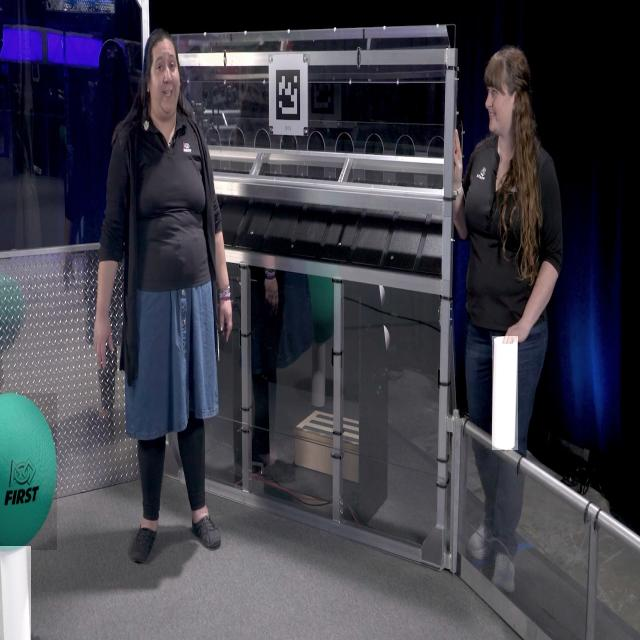Algae: (0, 393, 57, 550)
Coral: (492, 336, 518, 451), (0, 546, 31, 640)
